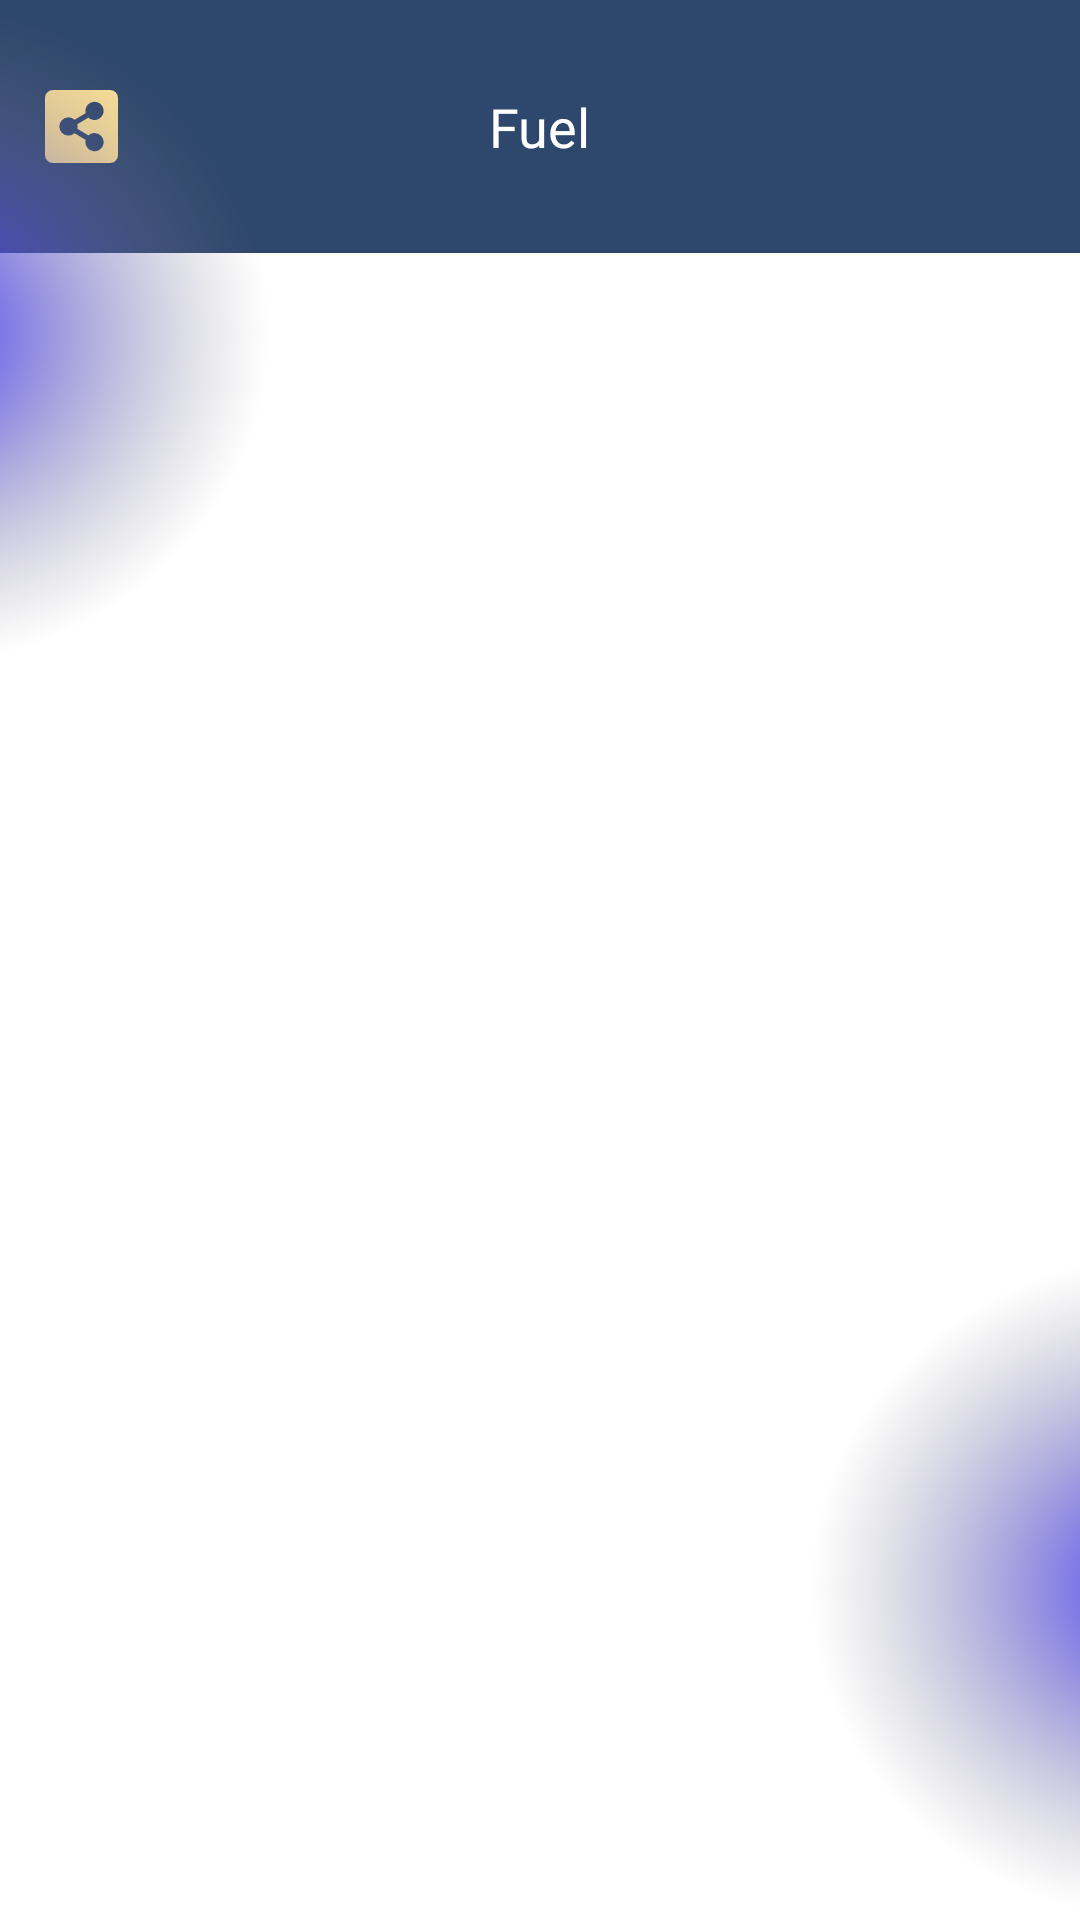

Where icons sit on this 1080×1920 app screen, as [x1,y1,x2,y2]:
share: [45,90,118,163]
